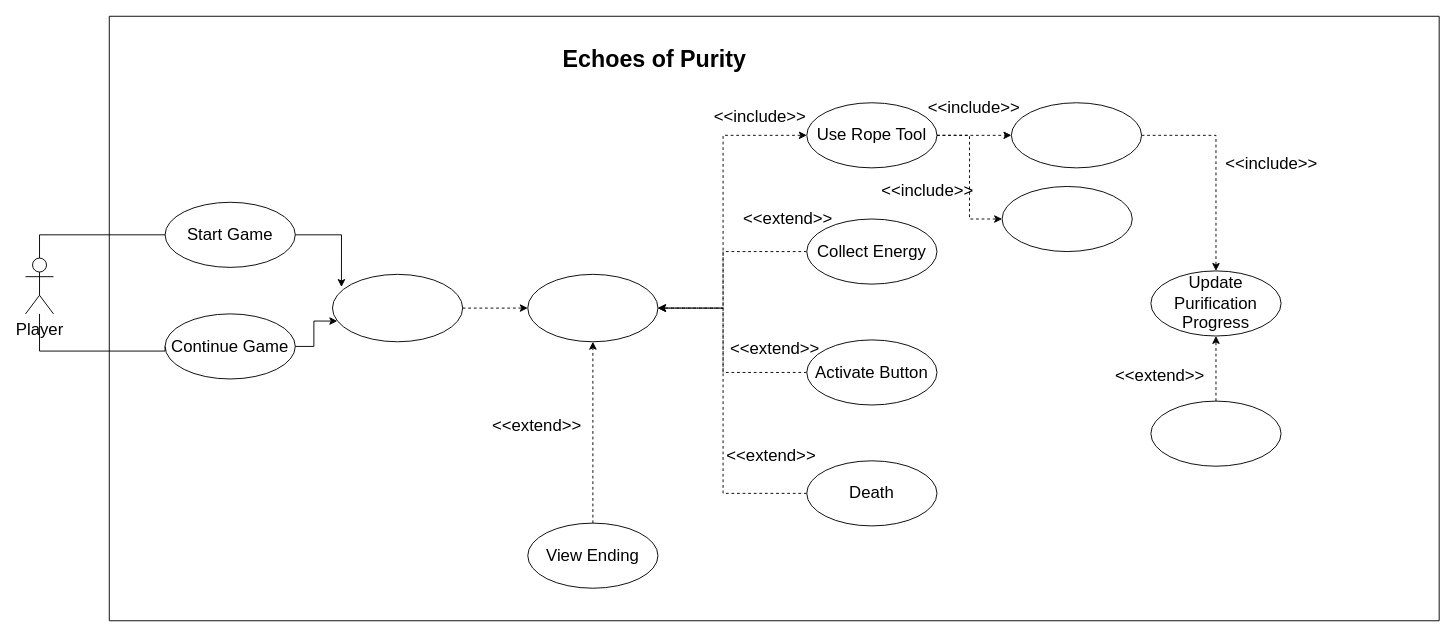
Image size: 1455x637. Some labels were removed from this diagram. The centre of each missing label's shape, as x and y in pixels:
Defeat Enemies: the point at 1066,219
Explore Area: the point at 592,307
Play Game: the point at 397,307
Purify Pollution: the point at 1076,135
Unlock New Area: the point at 1215,433
